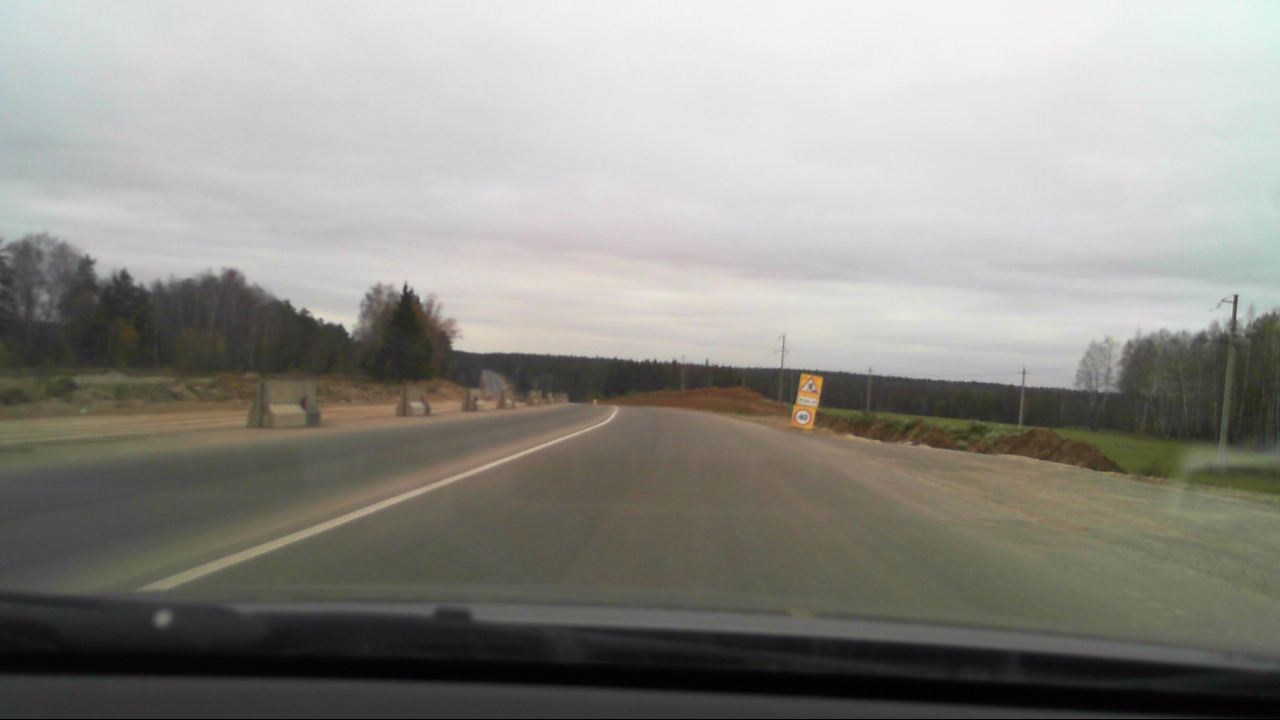speed_warning_40: (792, 408, 813, 427)
